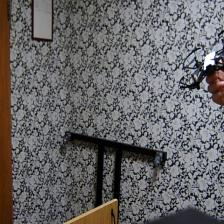drone: (178, 37, 224, 95)
